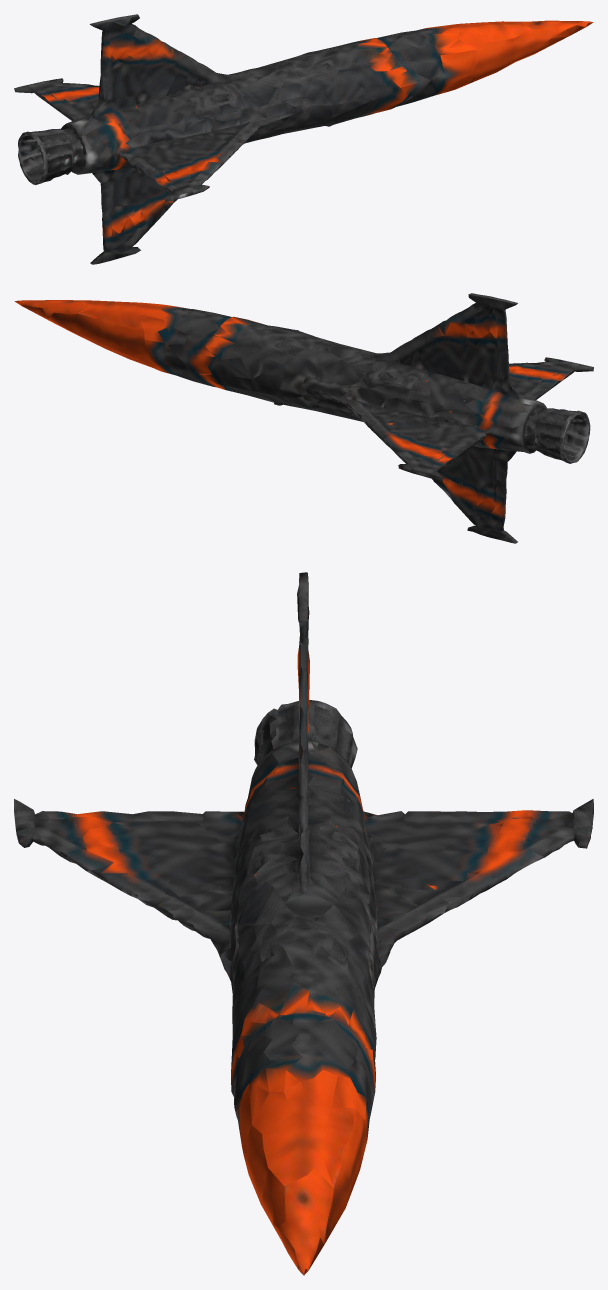
The model's file is fh_enemy_kamikaze_meshy.glb.
3 views of the same model, one above another, from view 1: azimuth 30°, elevation 25°; view 2: azimuth 150°, elevation 25°; view 3: azimuth 270°, elevation 25° (orthographic). The views are drawn at different scales.
Parts seen in each view (by area): view 1: GLTF; view 2: GLTF; view 3: GLTF.
Part boxes in pixels (x1=…): GLTF: x1=14, y1=14, x2=593, y2=264; GLTF: x1=14, y1=293, x2=593, y2=543; GLTF: x1=14, y1=572, x2=593, y2=1275.
Bounding box in the file's own units: 1 × 0.4074 × 0.4637.
1 material, 1 textured.
